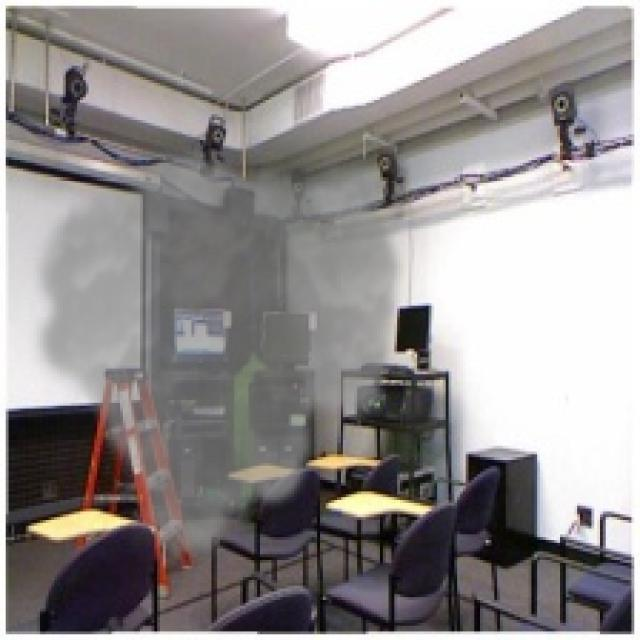Smoke: (22, 146, 408, 568)
